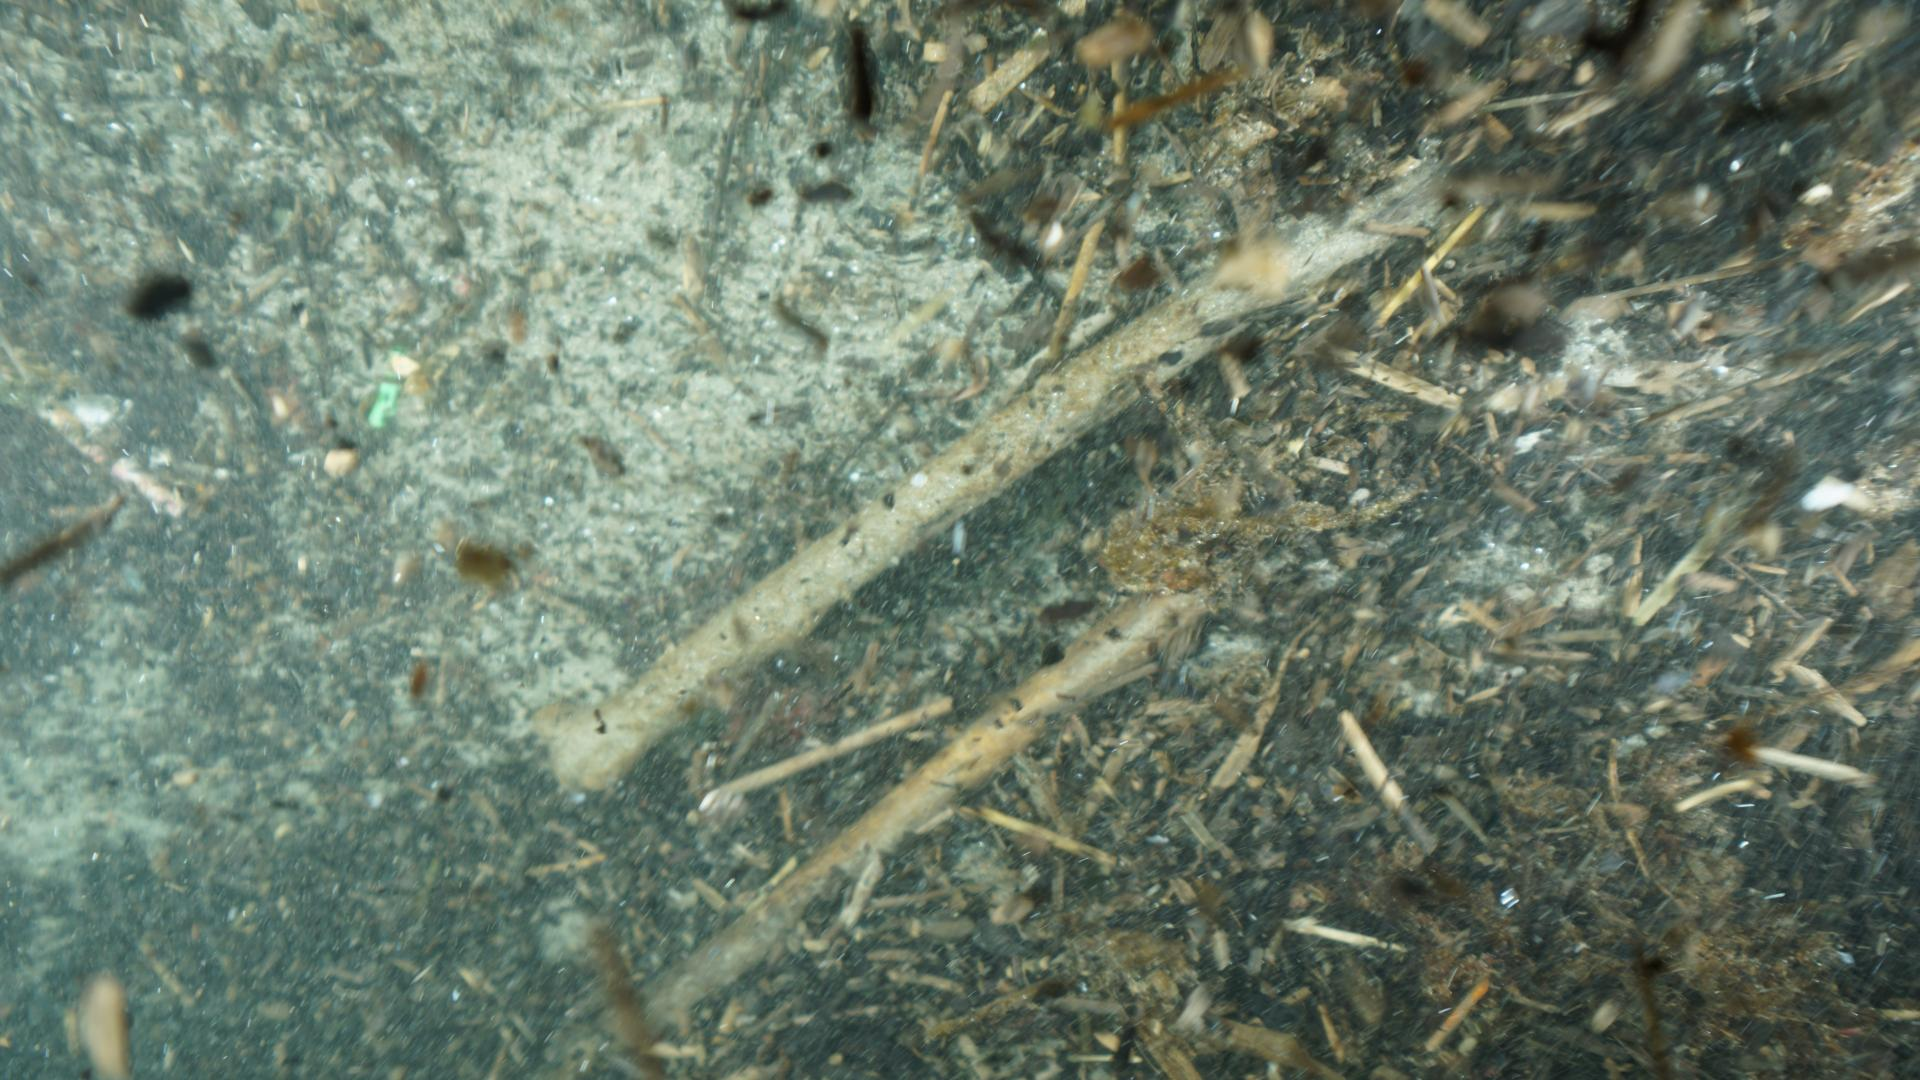wood: (527, 160, 1443, 793)
